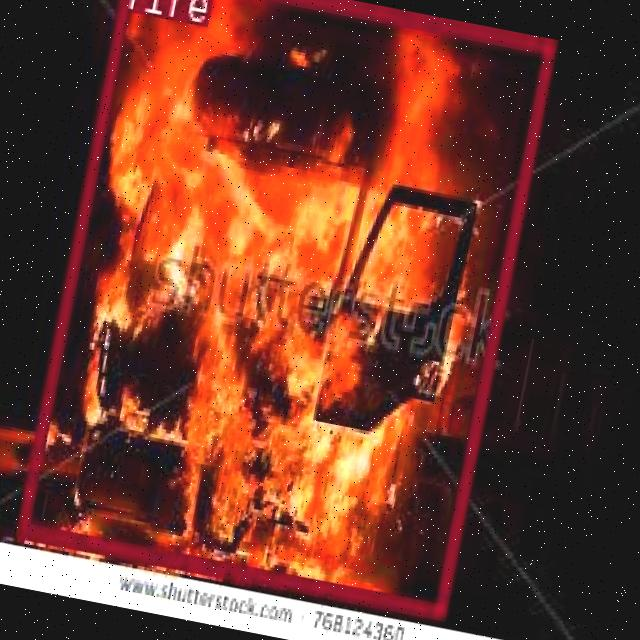fire: (16, 0, 556, 618)
